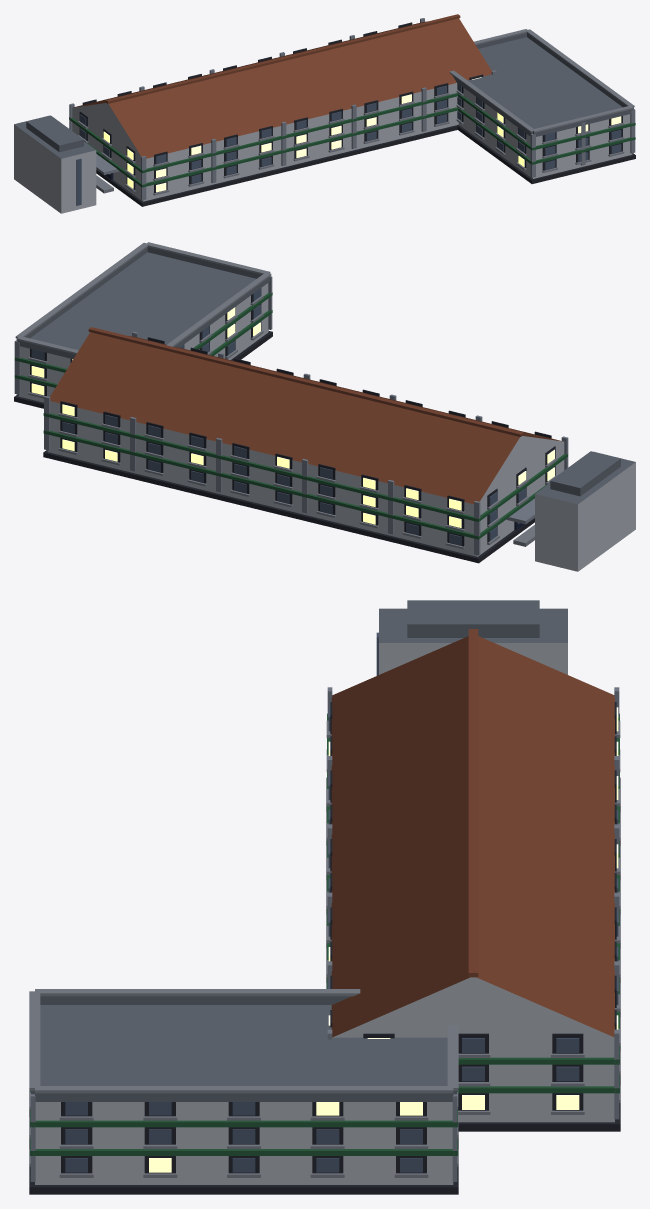
The model's file is apj-high.glb.
The picture shows the model from 3 angles, top to bottom: view 1: azimuth 30°, elevation 25°; view 2: azimuth 150°, elevation 25°; view 3: azimuth 270°, elevation 25°; orthographic projection. The views are drawn at different scales.
Bounding box in the file's own units: 167 × 25.73 × 87.6.
